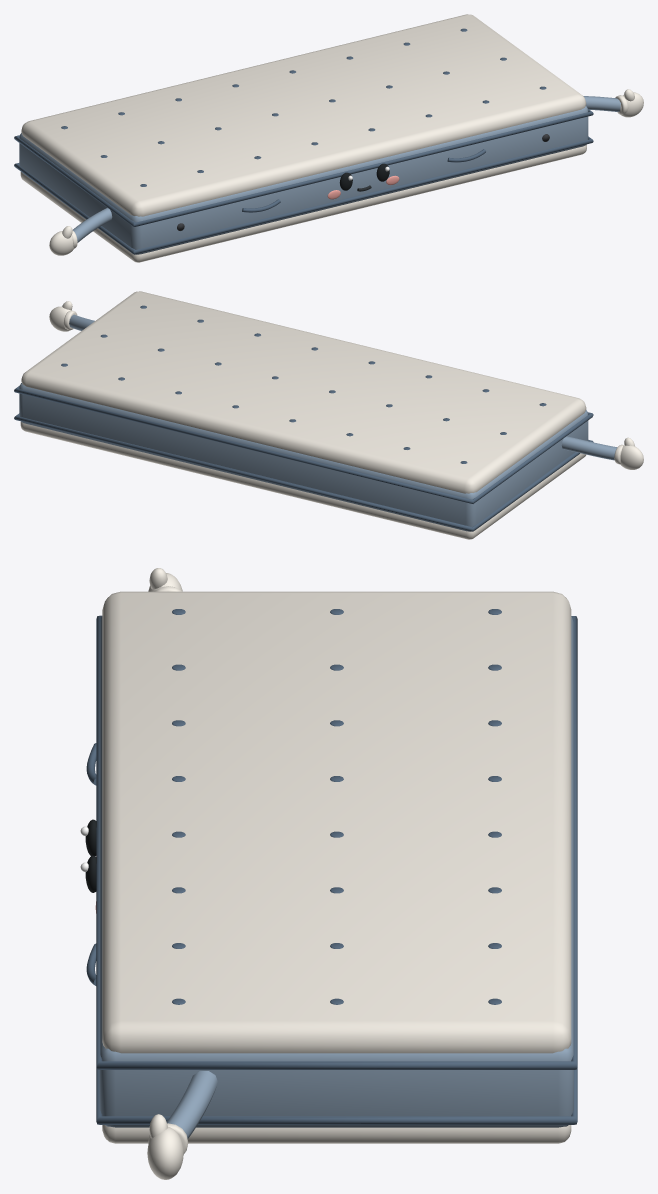
Rendered from mattress-single.glb.
3 renders of one model, top to bottom at view 1: azimuth 30°, elevation 25°; view 2: azimuth 150°, elevation 25°; view 3: azimuth 270°, elevation 25°, orthographic. The views are drawn at different scales.
Visible parts, largest first — view 1: Upholstery.005, Arm_L.005, Arm_R.005; view 2: Upholstery.005, Arm_L.005, Arm_R.005; view 3: Upholstery.005, Arm_R.005.
Boxes of the visible parts, left/top/right/bottom form: Upholstery.005: left=14, top=14, right=593, bottom=262; Arm_L.005: left=49, top=208, right=112, bottom=255; Arm_R.005: left=583, top=89, right=643, bottom=117; Upholstery.005: left=14, top=291, right=593, bottom=539; Arm_L.005: left=561, top=436, right=643, bottom=469; Arm_R.005: left=49, top=301, right=94, bottom=331; Upholstery.005: left=86, top=591, right=577, bottom=1143; Arm_R.005: left=147, top=1071, right=217, bottom=1179.
Bounding box in the file's own units: 2.6 × 0.2519 × 0.943.
